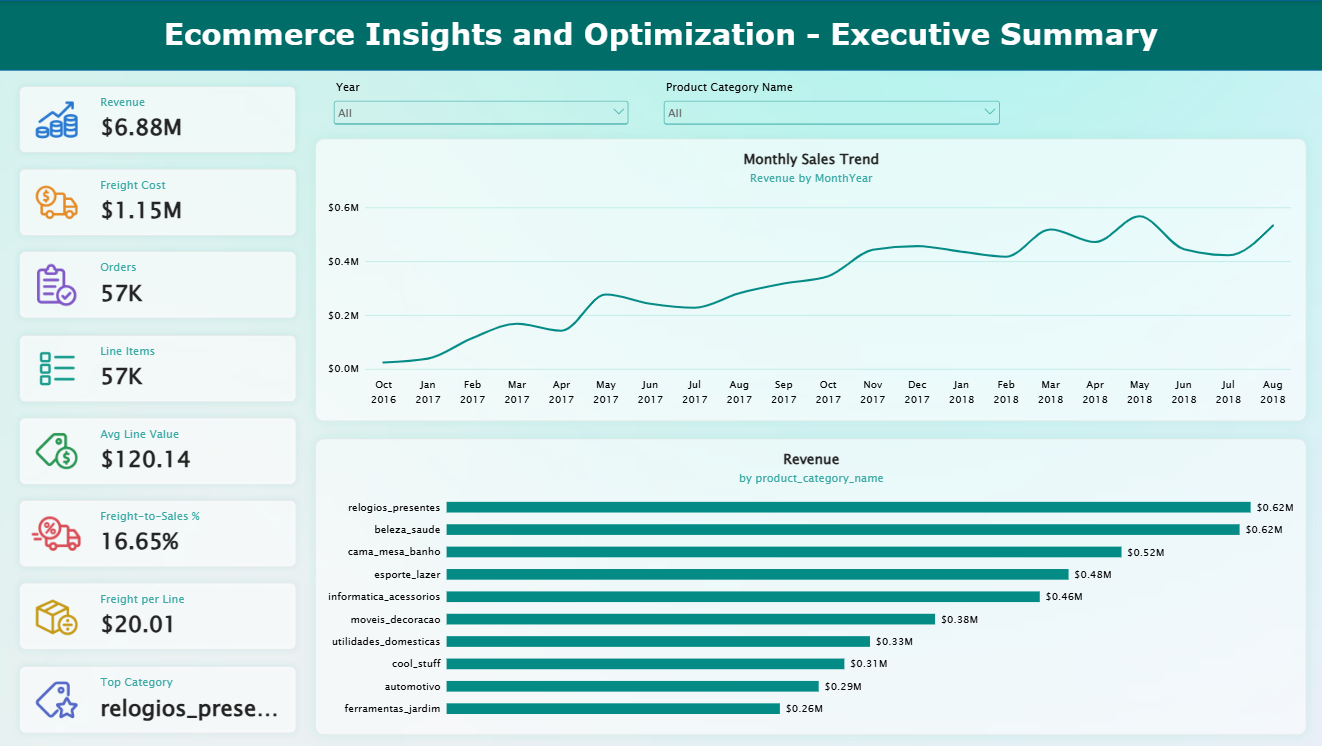

The dashboard page shown, as its layout file describes it:
{"tool":"powerbi","page":{"name":"Executive Summary","canvas":[1920,1080],"ordinal":0},"visuals":[{"type":"lineChart","title":"Monthly Sales Trend","fields":{"Category":["DimDate.MonthYear"],"Y":["data.Revenue"]},"box":[460,201,1434,409],"z":0},{"type":"cardVisual","title":"Total Sales Value","fields":{"Data":["data.Revenue"]},"box":[20,114,422.8,118.9],"z":1000},{"type":"clusteredBarChart","fields":{"Category":["data.product_category_name"],"Y":["data.Revenue"]},"box":[460,635,1434,429],"z":2000},{"type":"cardVisual","fields":{"Data":["data.Freight Cost"]},"box":[20,233.4,423,119.9],"z":3000},{"type":"slicer","fields":{"Values":["DimDate.Year"]},"box":[481.4,114,436.3,86.9],"z":4000},{"type":"shape","box":[0,0,1920,102],"z":5000},{"type":"cardVisual","fields":{"Data":["data.Orders"]},"box":[20,353.3,423,119.9],"z":6000},{"type":"slicer","fields":{"Values":["data.product_category_name"]},"box":[959.1,114,495.8,86.9],"z":7000},{"type":"textbox","box":[0,22,1920,66],"z":8000},{"type":"cardVisual","fields":{"Data":["data.Line Items"]},"box":[20,473.3,423,119.9],"z":9000},{"type":"cardVisual","fields":{"Data":["data.Avg Line Value"]},"box":[20,593.2,423,119.9],"z":10000},{"type":"cardVisual","fields":{"Data":["data.Freight-to-Sales %"]},"box":[20,713.2,423,119.9],"z":11000},{"type":"cardVisual","fields":{"Data":["data.Freight per Line"]},"box":[20,833.1,423,119.9],"z":12000},{"type":"cardVisual","fields":{"Data":["data.Top Category"]},"box":[20,953.1,423,119.9],"z":13000},{"type":"image","box":[47.1,114,76,119.4],"z":14000},{"type":"image","box":[47.1,233.4,76,119.4],"z":15000},{"type":"image","box":[47.1,352.9,76,119.4],"z":16000},{"type":"image","box":[54.3,474.1,63.3,119.4],"z":17000},{"type":"image","box":[47.1,593.6,76,119.4],"z":18000},{"type":"image","box":[39.8,713,88.7,119.4],"z":19000},{"type":"image","box":[47.1,834.3,76,119.4],"z":20000},{"type":"image","box":[47.1,953.7,76,119.4],"z":21000}]}

Visuals, with their boxes in screenshot pixels (x1, y1, x2, y2), scaled from the page's 1920x1080 canvas onto the 1322x746 screenshot:
"Monthly Sales Trend" lineChart: (317, 139, 1304, 421)
"Total Sales Value" cardVisual: (14, 79, 305, 161)
clusteredBarChart - data.product_category_name x data.Revenue: (317, 439, 1304, 735)
cardVisual - data.Freight Cost: (14, 161, 305, 244)
slicer - DimDate.Year: (331, 79, 632, 139)
shape: (0, 0, 1321, 70)
cardVisual - data.Orders: (14, 244, 305, 327)
slicer - data.product_category_name: (660, 79, 1002, 139)
textbox: (0, 15, 1321, 61)
cardVisual - data.Line Items: (14, 327, 305, 410)
cardVisual - data.Avg Line Value: (14, 410, 305, 493)
cardVisual - data.Freight-to-Sales %: (14, 493, 305, 575)
cardVisual - data.Freight per Line: (14, 575, 305, 658)
cardVisual - data.Top Category: (14, 658, 305, 741)
image: (32, 79, 85, 161)
image: (32, 161, 85, 244)
image: (32, 244, 85, 326)
image: (37, 327, 81, 410)
image: (32, 410, 85, 492)
image: (27, 492, 88, 575)
image: (32, 576, 85, 659)
image: (32, 659, 85, 741)
